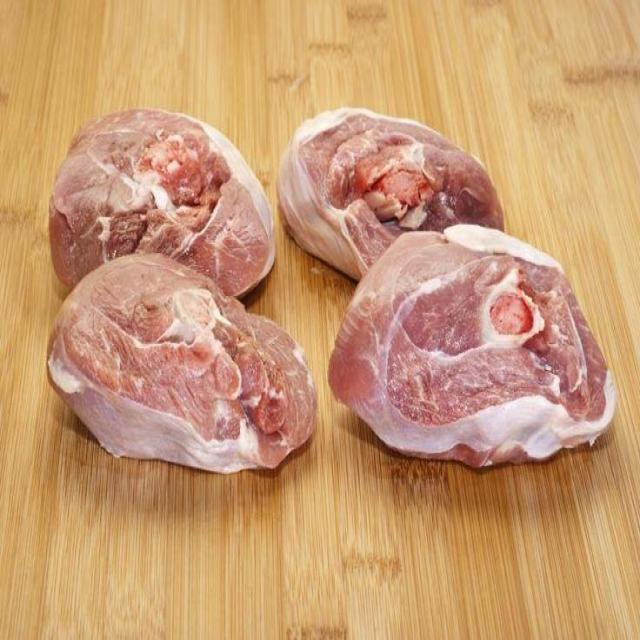Beef: (332, 243, 620, 484)
